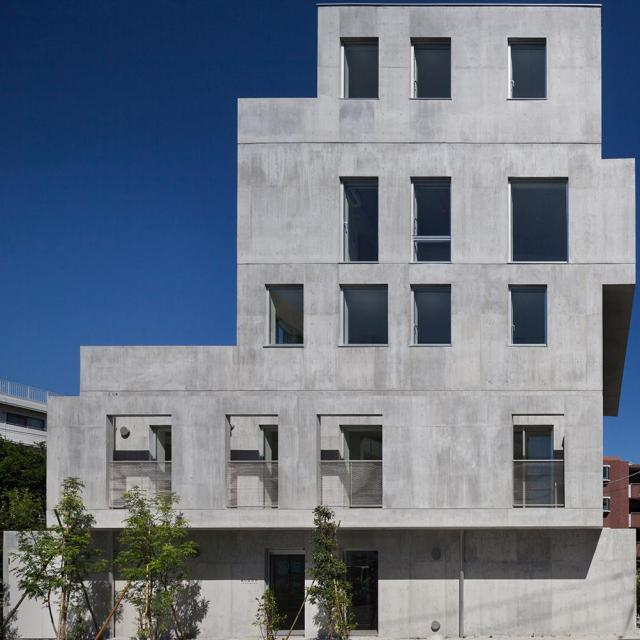door: (269, 554, 304, 635), (344, 552, 376, 638)
railing: (315, 462, 381, 512), (105, 462, 171, 507), (224, 465, 276, 512), (510, 463, 564, 506)
window: (509, 185, 567, 264), (412, 180, 449, 269), (343, 185, 377, 266), (340, 292, 386, 347), (509, 286, 547, 349), (410, 290, 448, 346), (507, 46, 544, 101), (338, 47, 375, 102), (412, 50, 449, 102), (268, 293, 301, 347), (345, 433, 381, 461), (523, 432, 550, 463)
